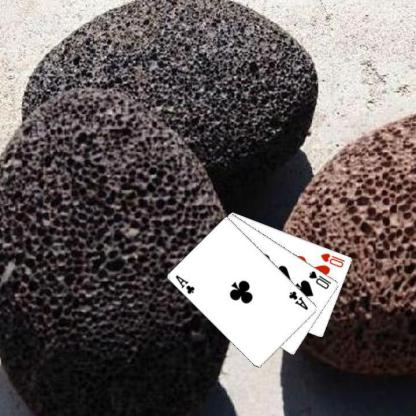10H: (318, 250, 346, 269)
10S: (306, 268, 333, 290)
AC: (286, 288, 310, 312), (173, 272, 196, 295)
